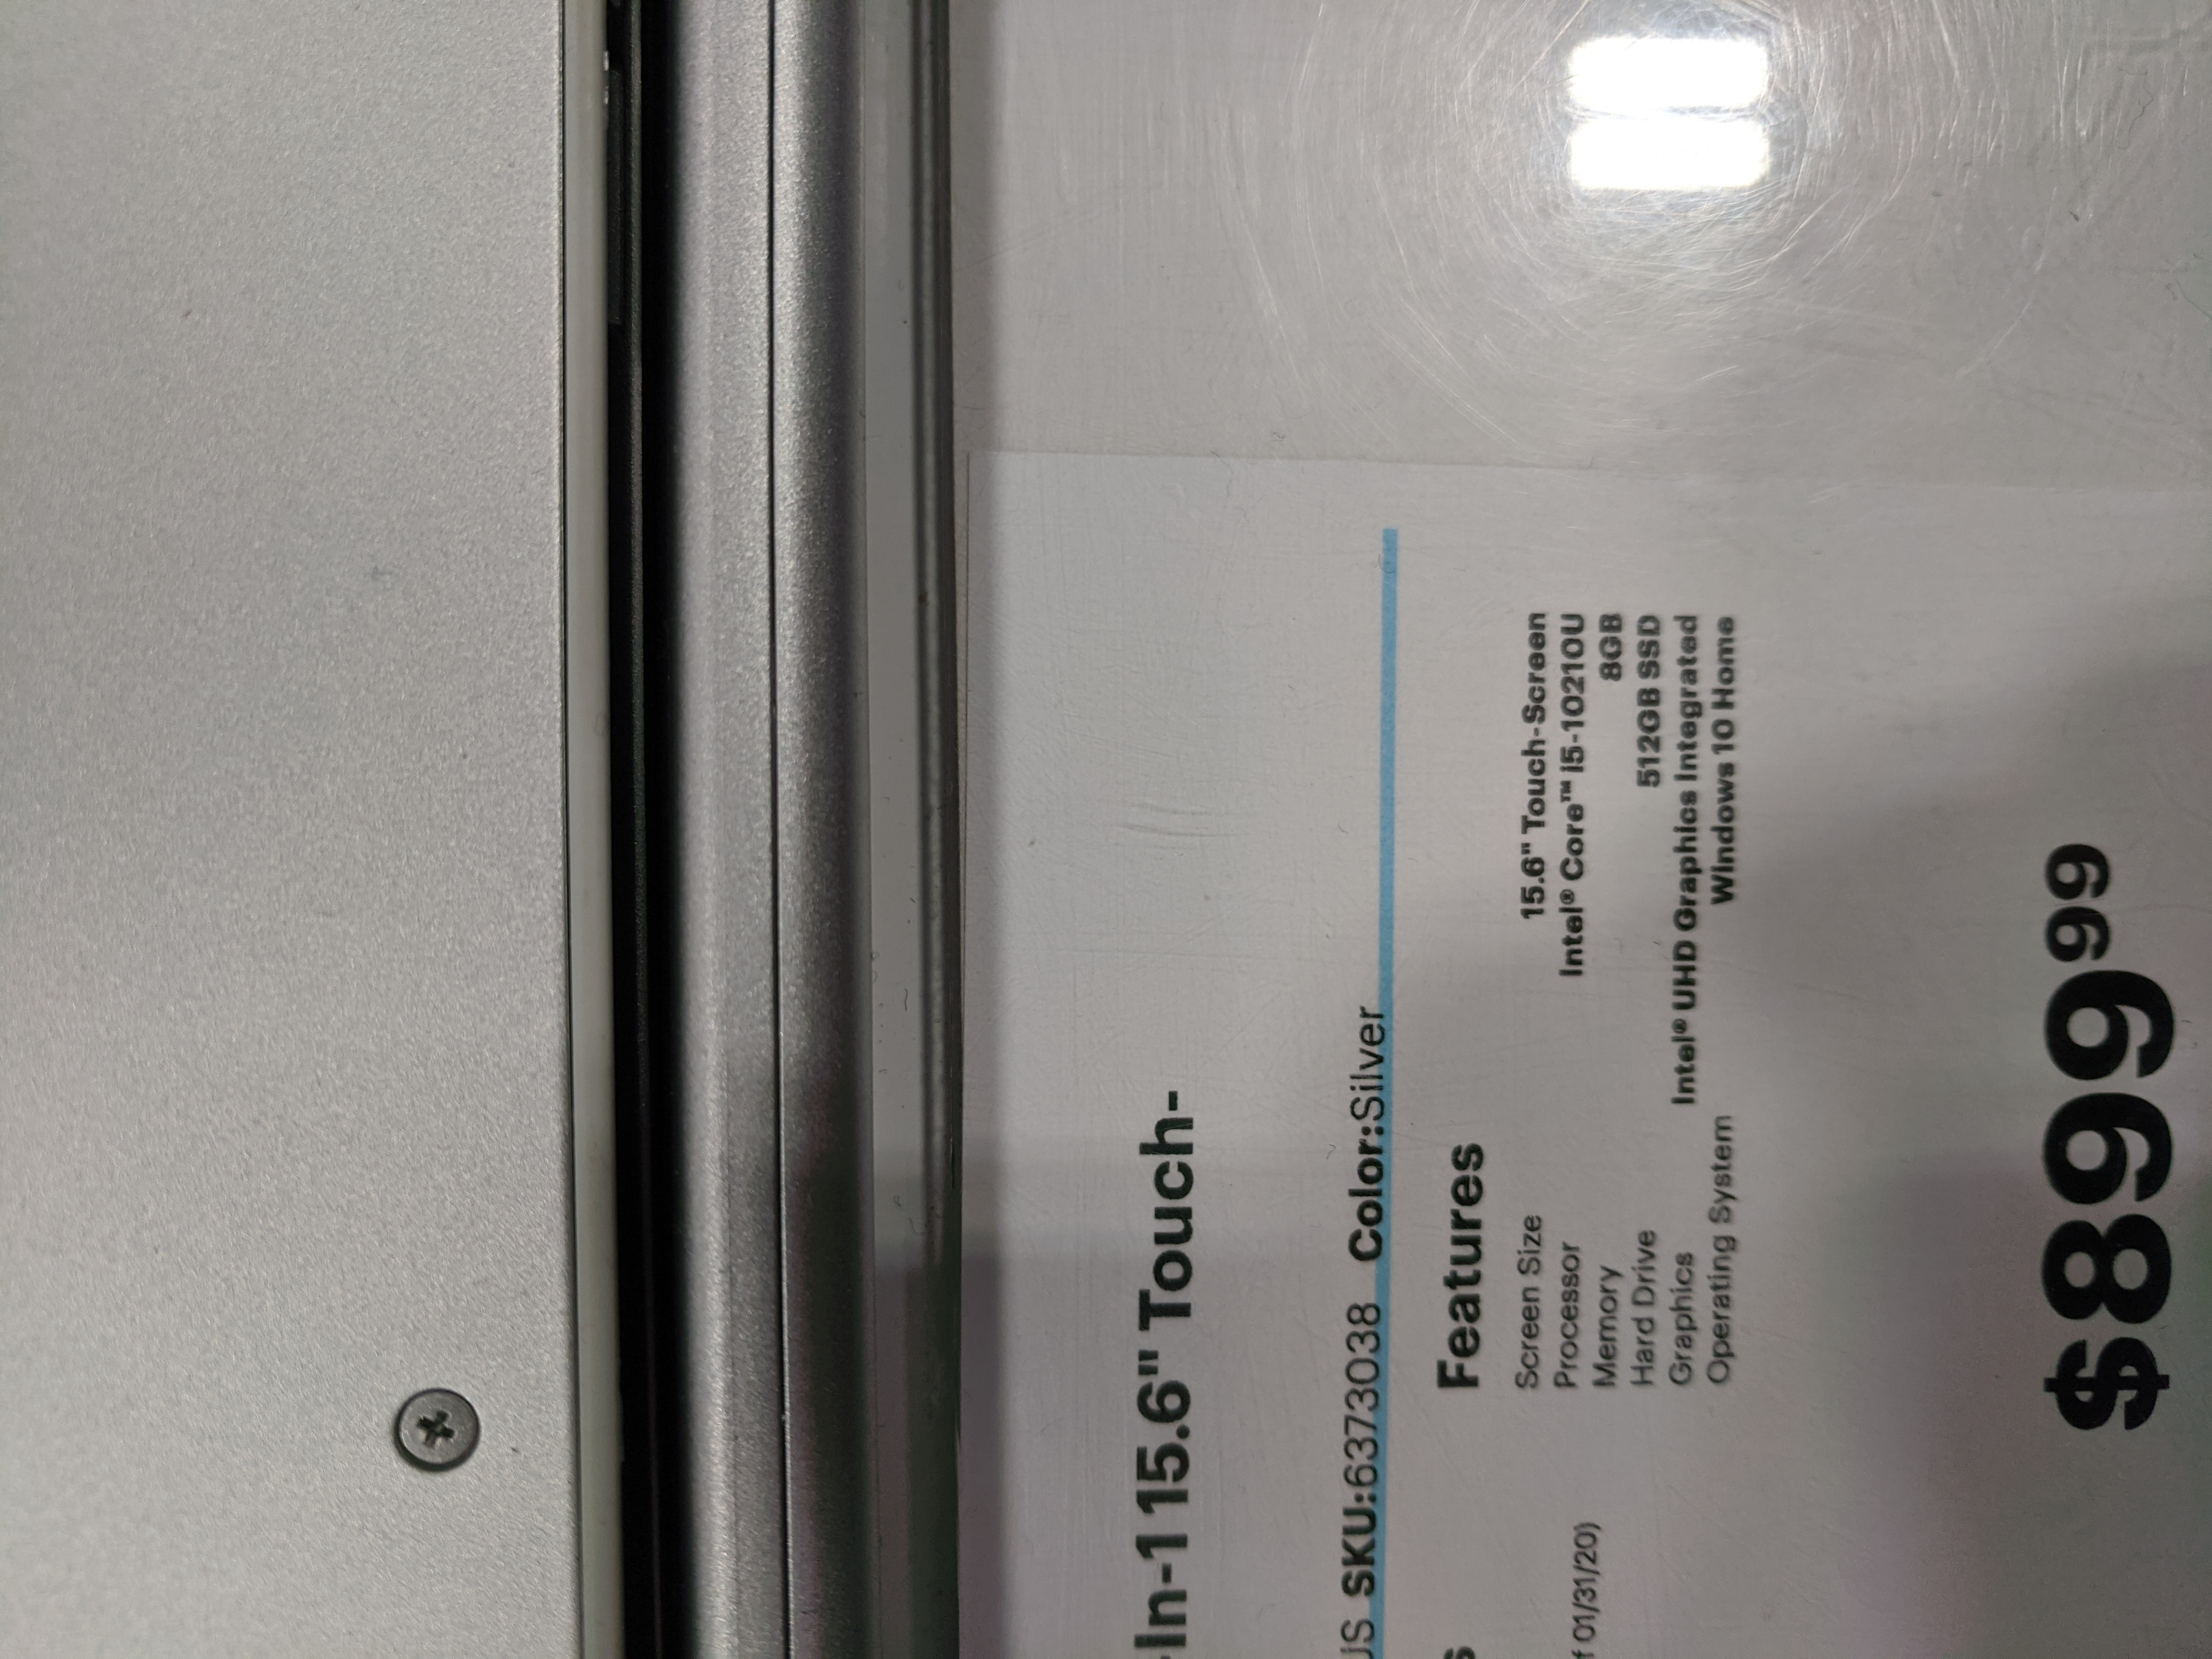cross_recessed_screw: (380, 1375, 488, 1476)
